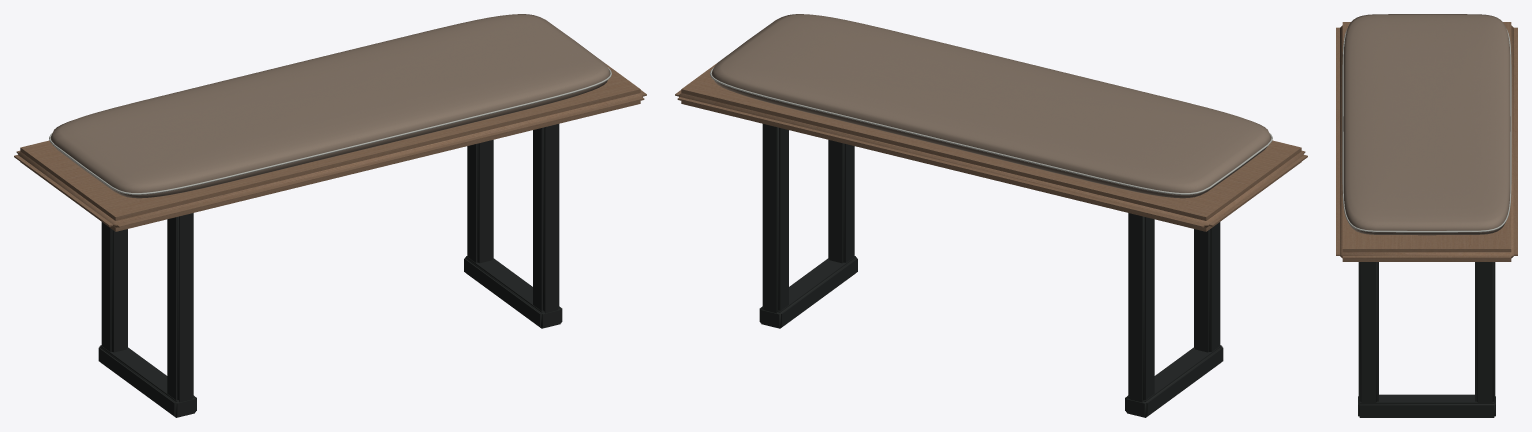
File: industrial.bench.gltf
The picture shows the model from 3 angles, left to right: view 1: azimuth 30°, elevation 25°; view 2: azimuth 150°, elevation 25°; view 3: azimuth 270°, elevation 25°; orthographic projection. The views are drawn at different scales.
Parts seen in each view (by area): view 1: industrial.bench.rounded-top; view 2: industrial.bench.rounded-top; view 3: industrial.bench.rounded-top.
Boxes of the visible parts, <box> form: industrial.bench.rounded-top: <box>14,14,646,417</box>; industrial.bench.rounded-top: <box>675,14,1307,417</box>; industrial.bench.rounded-top: <box>1336,14,1517,417</box>.
Size of the model in its own units: 1.15 by 0.5075 by 0.38.
Materials: 4 (2 with a texture image).
